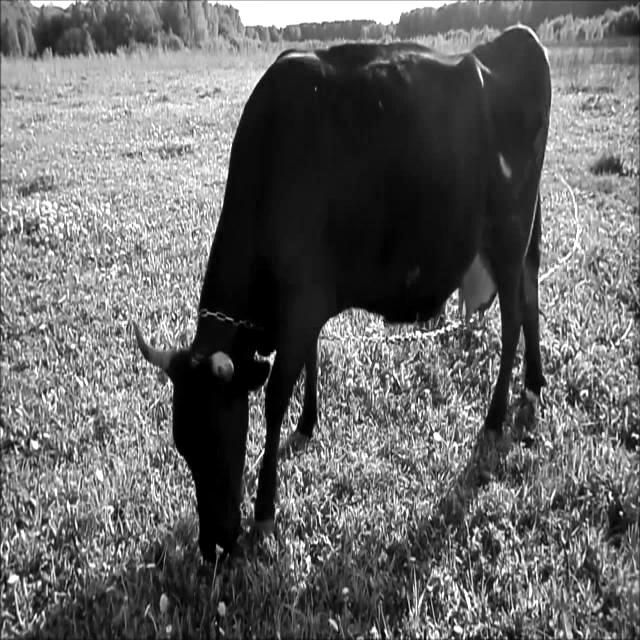COW: (139, 28, 551, 560)
